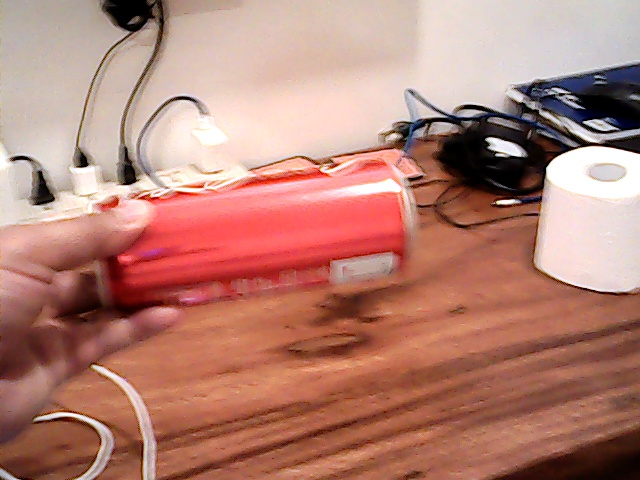Cola: (97, 152, 410, 297)
